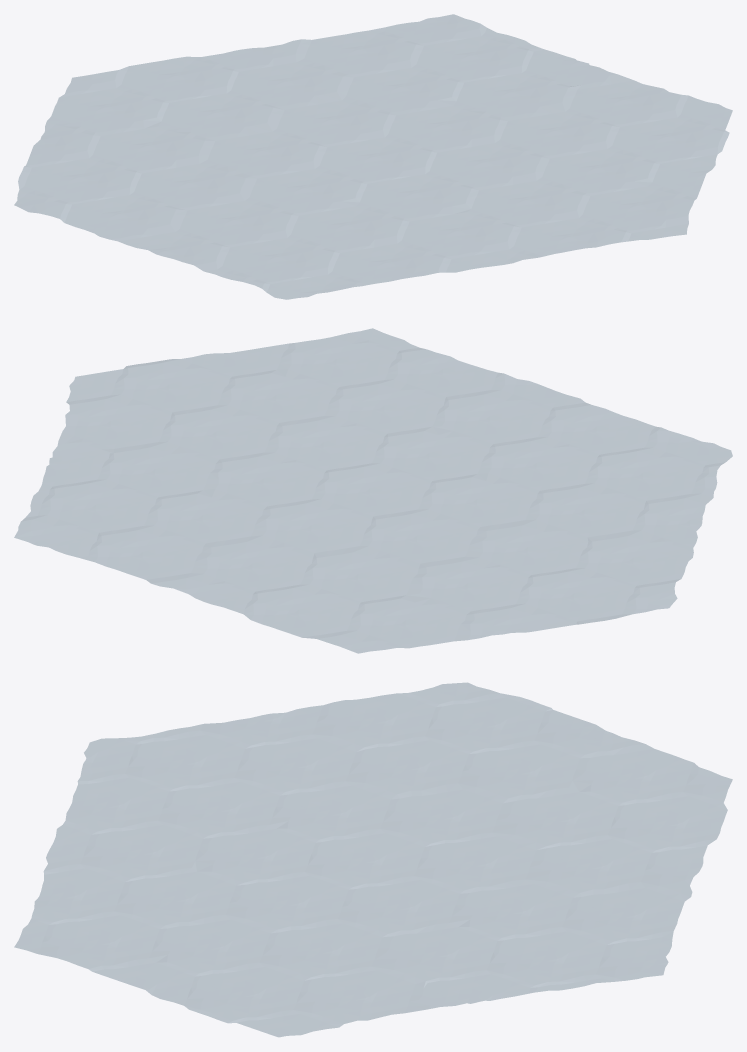
Rendered from Terrain.obj.
3 renders of one model, top to bottom at view 1: azimuth 30°, elevation 25°; view 2: azimuth 150°, elevation 25°; view 3: azimuth 270°, elevation 25°, orthographic. The views are drawn at different scales.
Visible parts, largest first — view 1: Terrain; view 2: Terrain; view 3: Terrain.
Boxes of the visible parts, <box> form: Terrain: <box>14,14,732,299</box>; Terrain: <box>14,328,732,653</box>; Terrain: <box>14,682,732,1037</box>.
Size of the model in its own units: 7505 by 5.43 by 6421.
